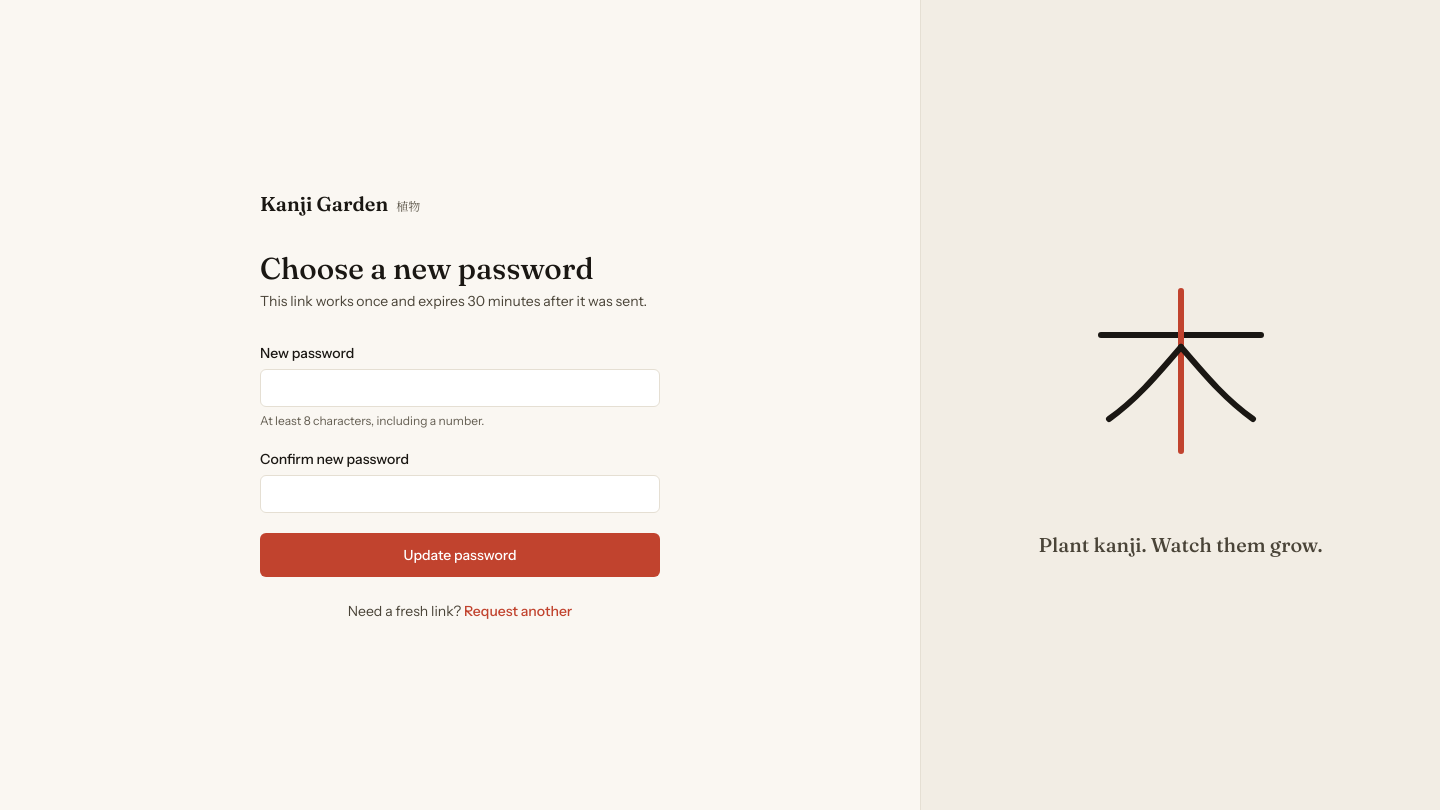
Test: reset password screen (D21) › posts the token and new password, then confirms
Type "newgarden456" into the password field labelled "New password" at (460, 388), box [260, 369, 660, 407]
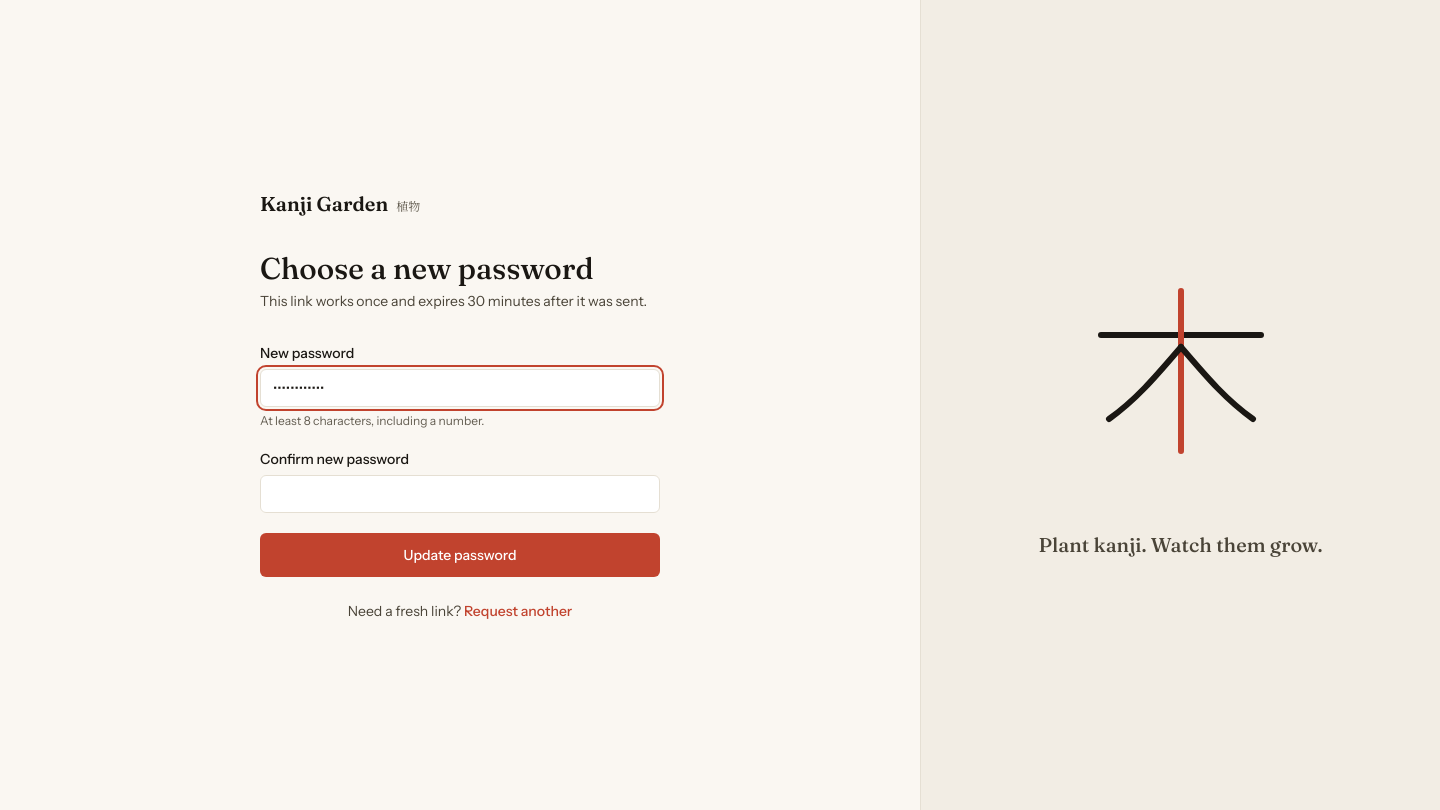
Type "newgarden456" into the password field labelled "Confirm new password" at (460, 494), box [260, 475, 660, 513]
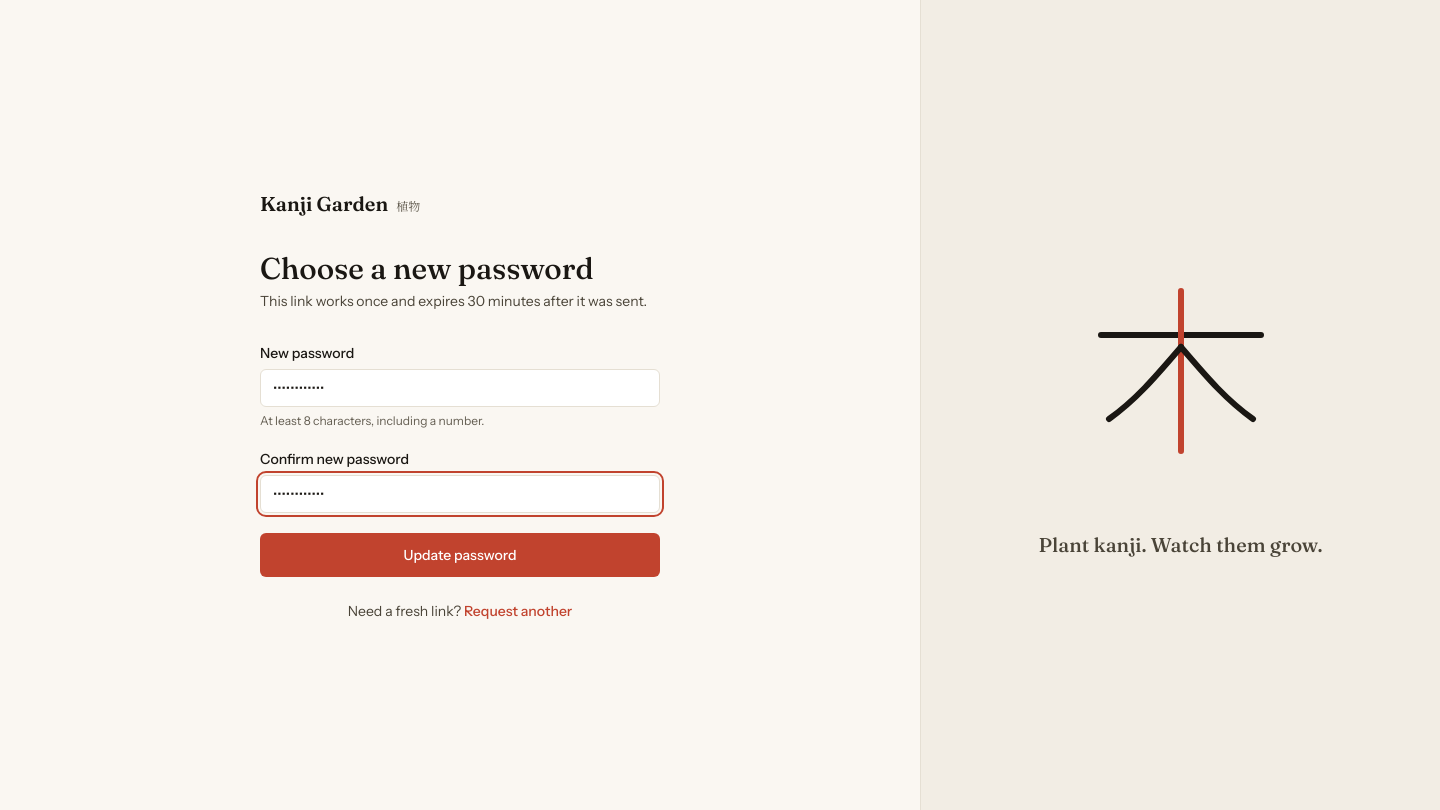
Click the button "Update password" at (460, 555), box [260, 533, 660, 577]
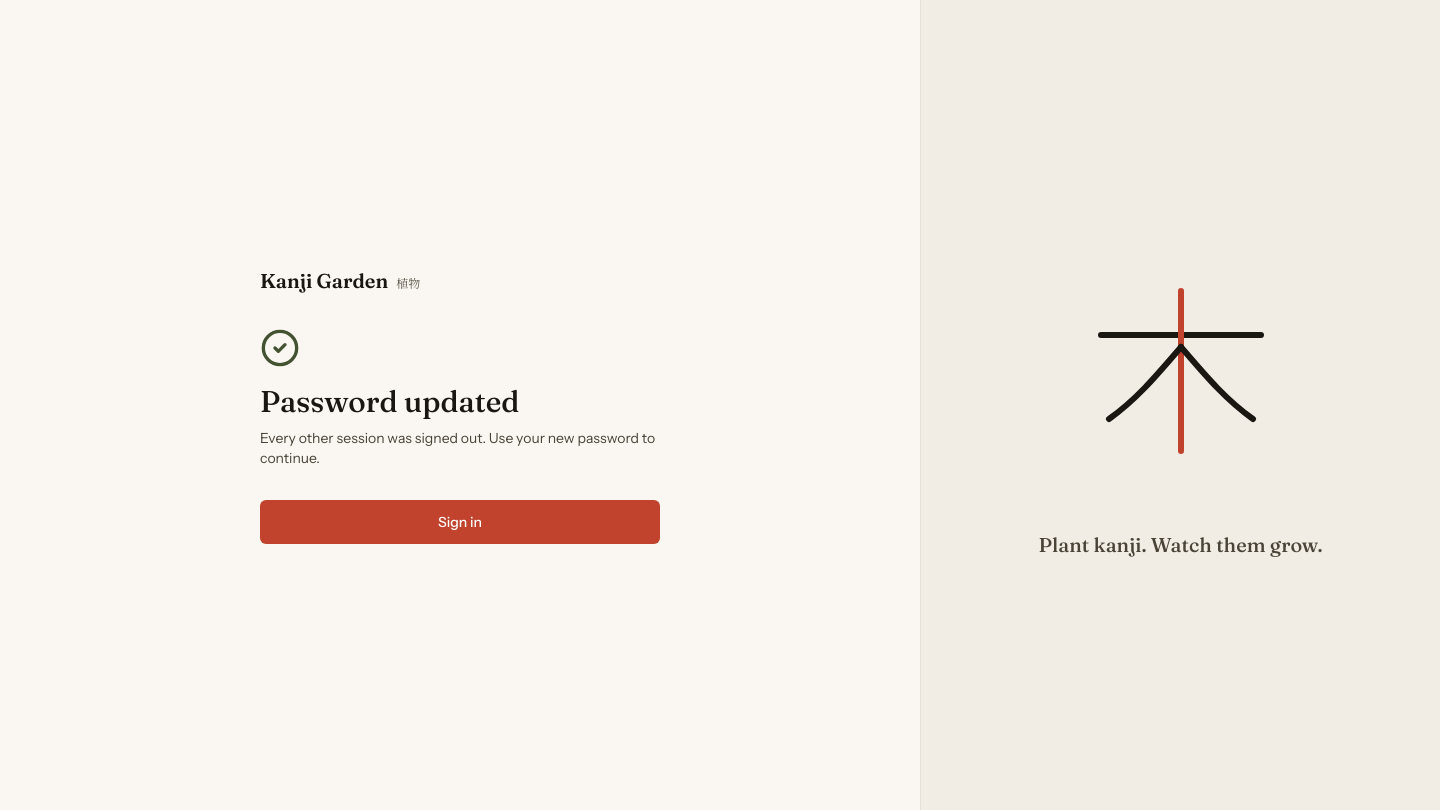
expect the heading "Password updated" is shown: met, box [260, 383, 520, 420]
